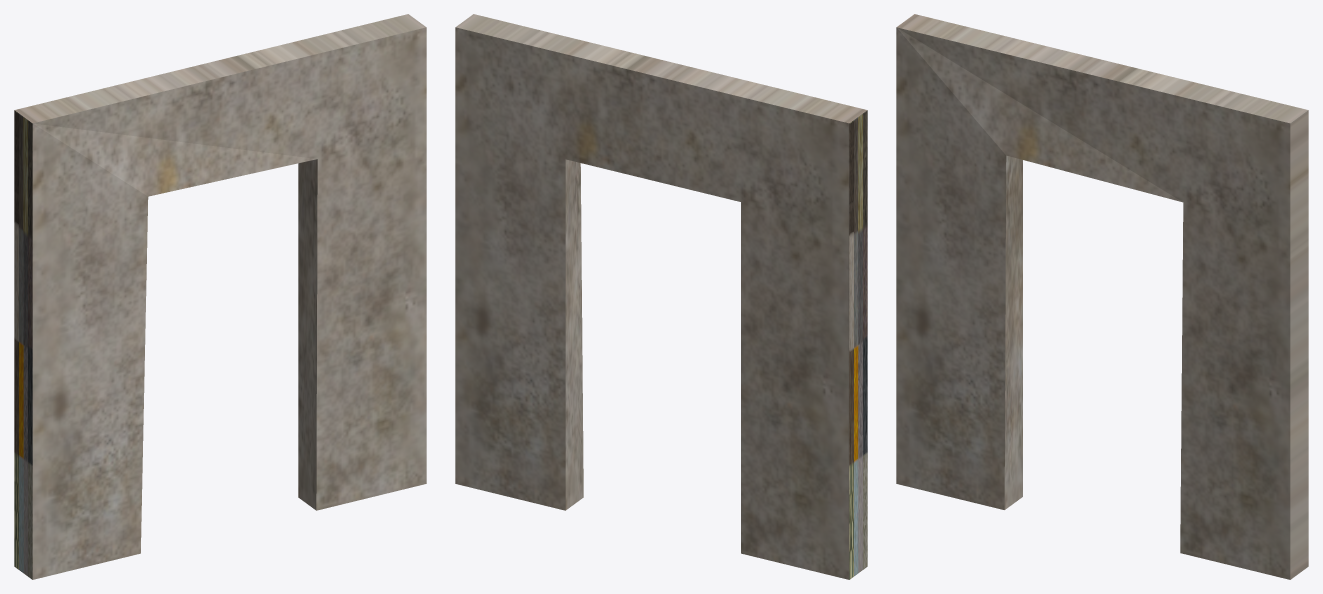
The model's file is wallDoorFrame.fbx.
3 renders of one model, left to right at view 1: azimuth 30°, elevation 25°; view 2: azimuth 150°, elevation 25°; view 3: azimuth 330°, elevation 25°, orthographic.
Visible parts, largest first — view 1: WallDoorFrame; view 2: WallDoorFrame; view 3: WallDoorFrame.
Part boxes in pixels (x1,y1,x2,y2): WallDoorFrame: (14, 14, 426, 579); WallDoorFrame: (455, 14, 867, 579); WallDoorFrame: (896, 14, 1308, 579).
Size of the model in its own units: 250 by 277 by 23.21.
